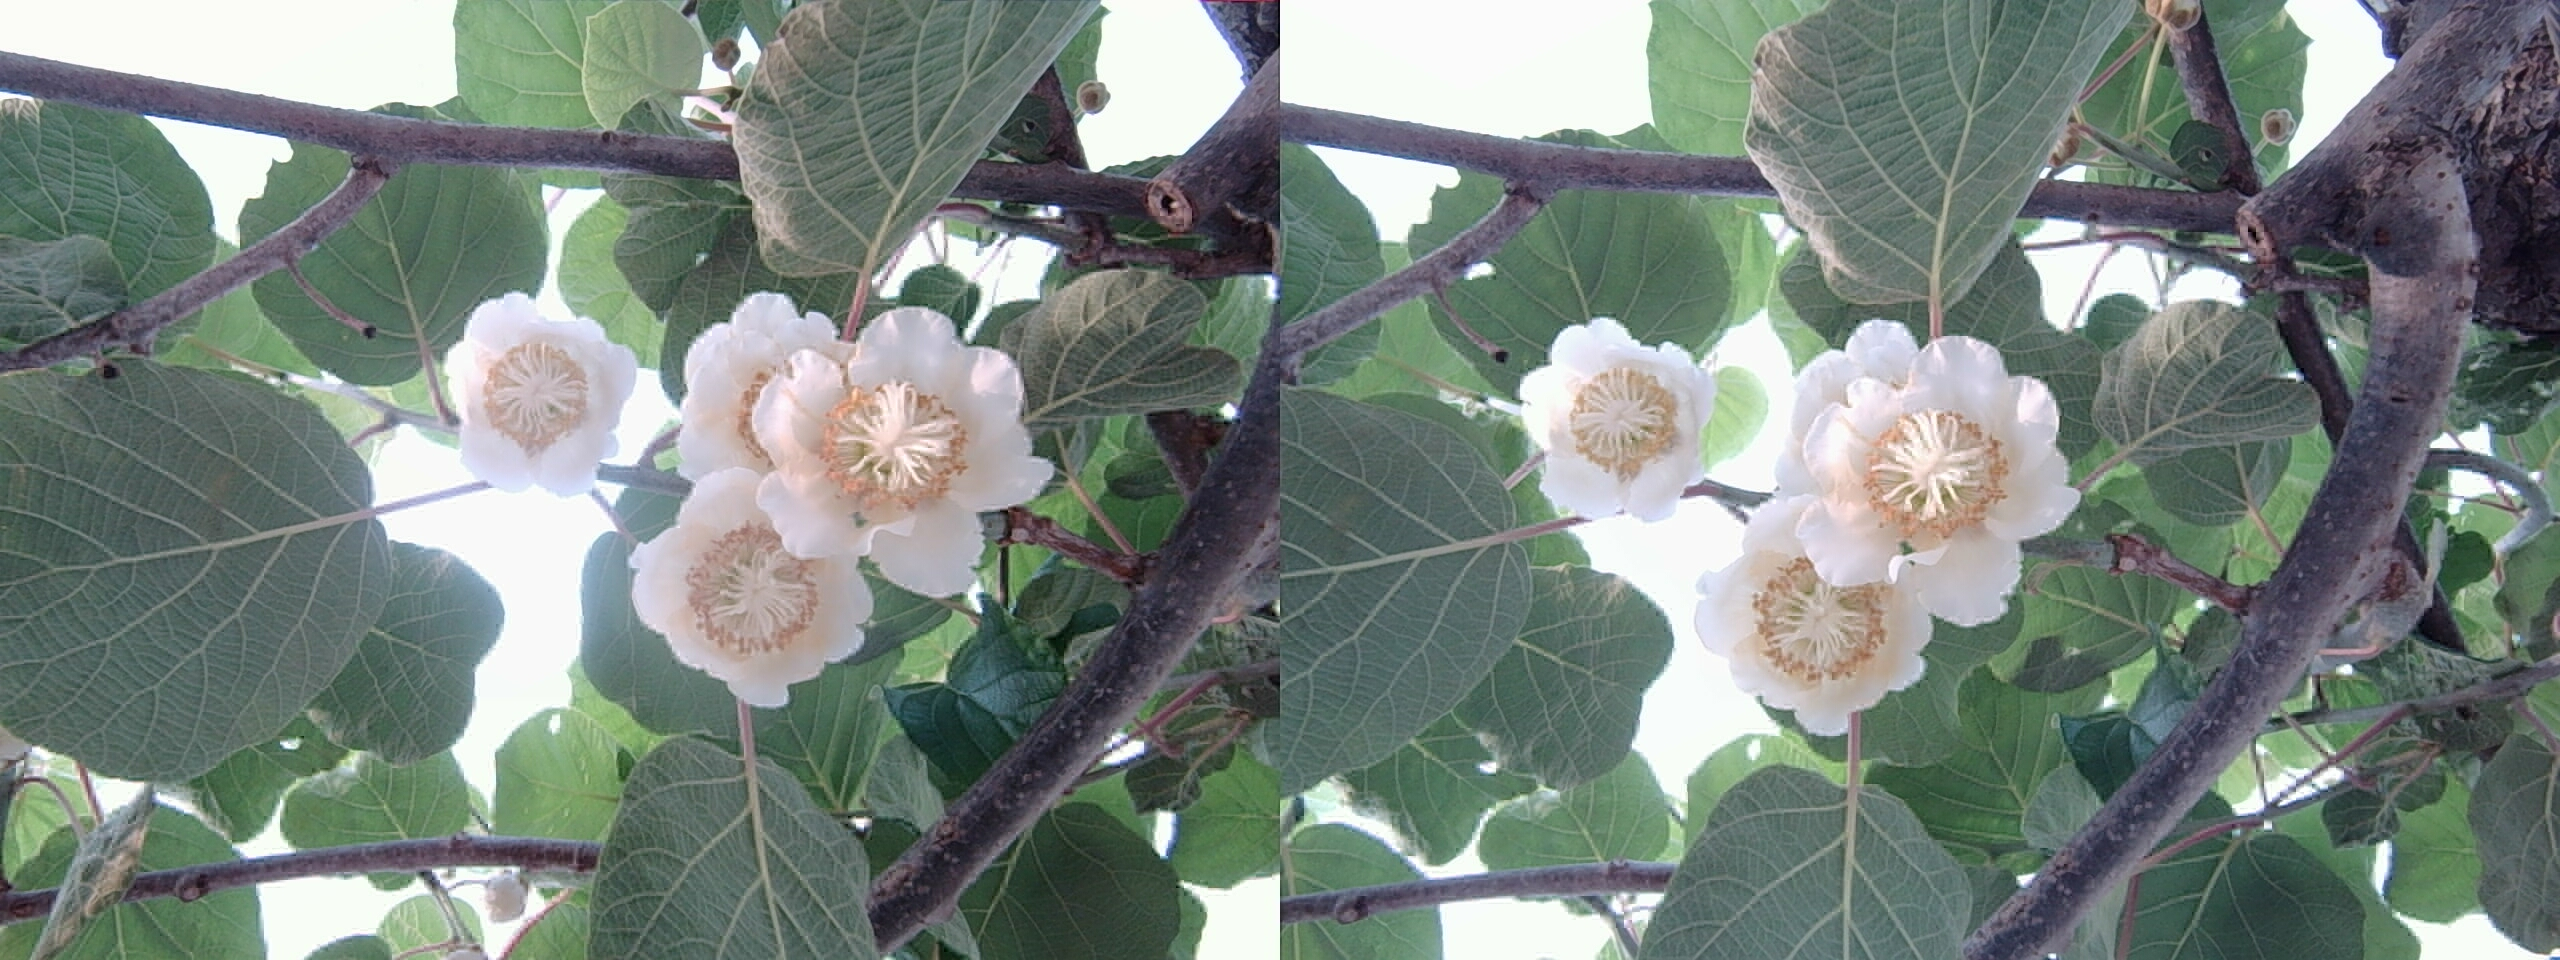flower: (1784, 325, 2065, 593), (748, 313, 1030, 553), (620, 473, 873, 709), (1695, 508, 1931, 727), (1513, 313, 1742, 519), (433, 281, 638, 496), (684, 300, 829, 477)
